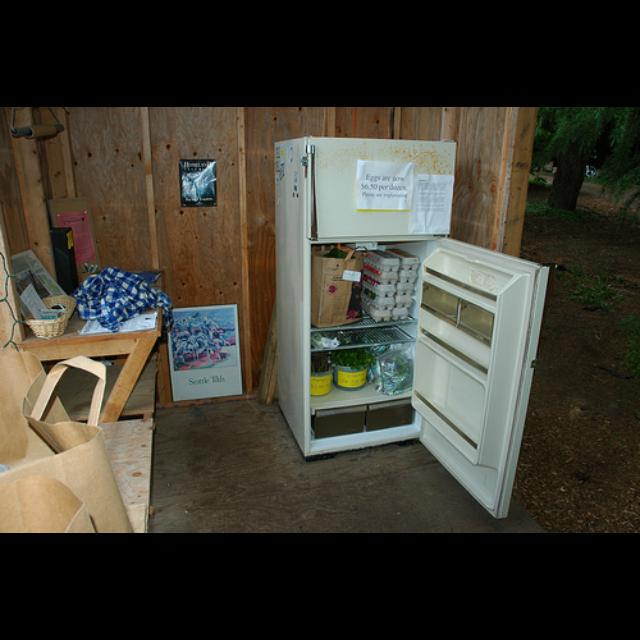Refrigerator: (275, 136, 560, 521)
